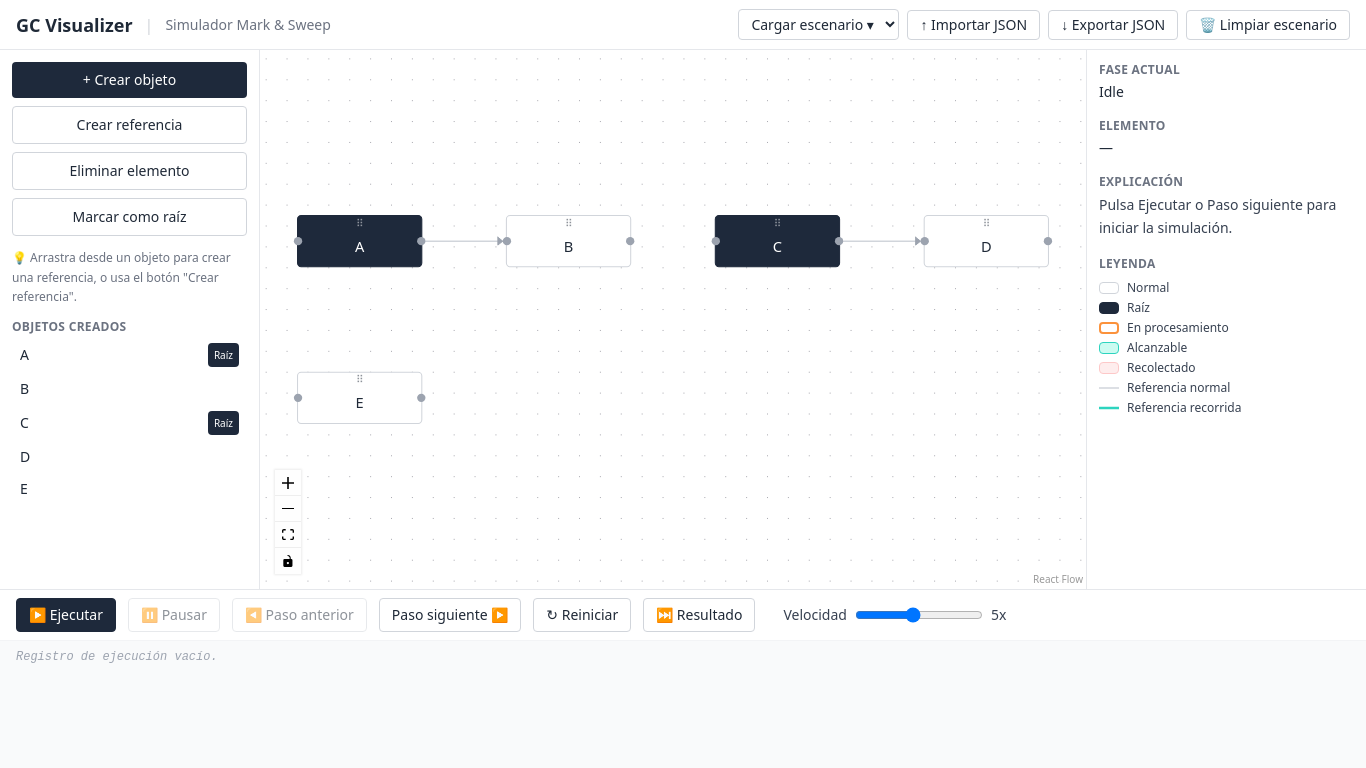
Test case: GC Visualizer — End-to-End › TC-E-10: simulación completa con resultado correcto y registro
The width and height of the screenshot is (1366, 768).
Expected: the element with test id "graph-canvas" is shown, [260,50,1086,589]
What coordinates should you click on to do the following:
click the button with test id "btn-ejecutar"
I would click on:
 (66, 615)
Its box is [16,598,116,632].
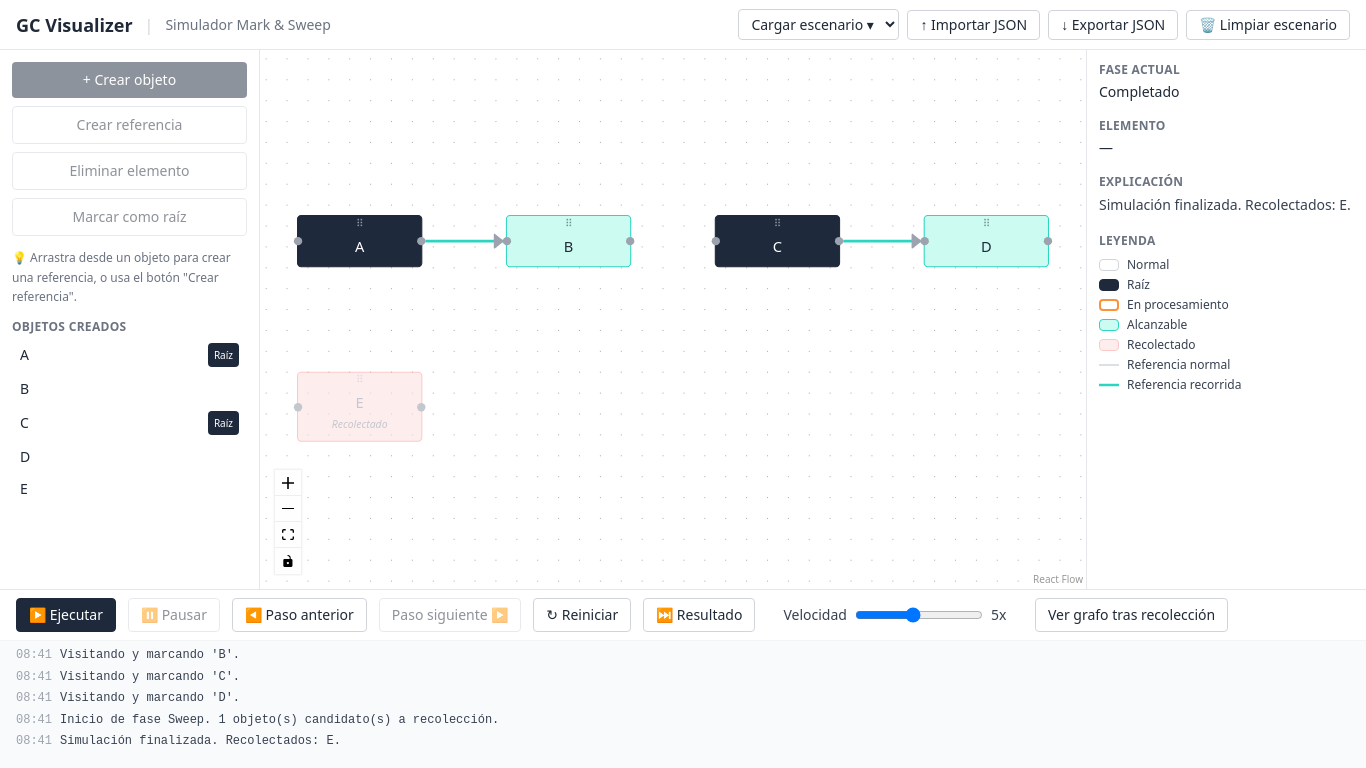
Expected: the element with test id "execution-log" is shown, [0,640,1365,767]
Now the text with test id "info-fase-actual" reads "Completado", box [1099,82,1180,101]
Now the text with test id "info-explicacion" shows "finalizada", box [1099,195,1351,214]
